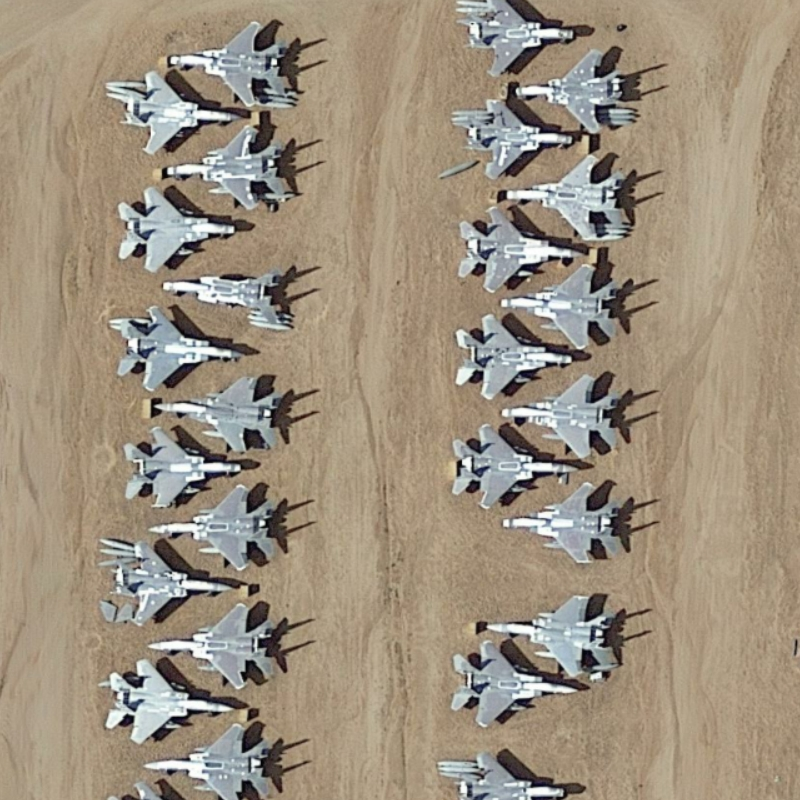A13: (148, 596, 304, 696), (498, 472, 650, 572), (157, 16, 315, 111), (500, 139, 642, 244), (444, 636, 589, 733), (511, 39, 651, 139), (165, 115, 310, 211), (109, 297, 254, 393), (449, 199, 589, 298), (481, 589, 632, 680), (157, 480, 298, 575), (108, 181, 248, 275), (496, 370, 636, 464), (120, 411, 251, 511), (106, 528, 236, 628), (157, 361, 293, 455), (497, 255, 631, 349), (445, 421, 584, 511), (137, 722, 297, 800), (448, 309, 582, 400), (98, 655, 237, 742), (116, 69, 241, 153), (459, 95, 580, 181), (462, 3, 591, 81)
